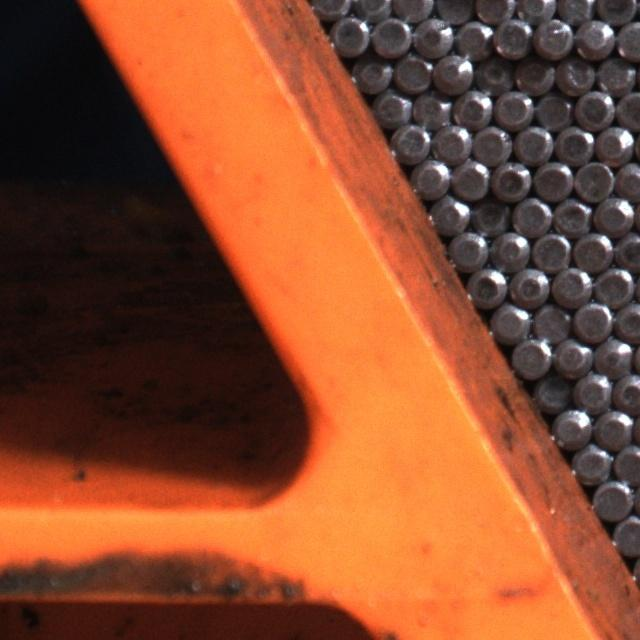tool: (590, 477, 632, 519), (488, 301, 529, 343), (370, 14, 411, 55), (508, 265, 549, 306), (433, 51, 474, 92), (530, 300, 571, 341), (570, 442, 610, 484), (592, 191, 632, 233), (466, 265, 506, 307), (329, 12, 369, 54), (572, 369, 612, 410), (573, 157, 613, 198), (449, 157, 489, 198), (592, 406, 632, 447), (532, 15, 572, 56), (551, 263, 592, 303), (490, 158, 530, 199), (509, 336, 550, 376), (412, 15, 453, 55), (593, 264, 634, 304), (532, 158, 572, 199), (429, 192, 469, 233), (410, 156, 449, 198), (471, 122, 511, 162), (574, 16, 614, 56), (551, 195, 591, 235), (595, 54, 635, 94), (553, 120, 593, 160), (447, 228, 487, 268), (572, 298, 612, 338), (512, 121, 552, 161), (511, 194, 551, 234), (592, 334, 632, 374), (432, 120, 472, 160), (490, 228, 530, 268), (572, 229, 612, 269), (453, 15, 492, 56), (551, 334, 590, 374), (494, 86, 533, 126), (391, 119, 430, 159), (392, 51, 431, 91), (550, 407, 589, 447), (493, 16, 532, 56), (595, 122, 634, 162), (530, 230, 569, 270), (513, 55, 553, 94), (470, 197, 510, 236), (575, 87, 614, 126), (555, 55, 594, 94), (410, 87, 449, 126), (474, 52, 513, 91), (451, 86, 491, 124), (534, 88, 572, 127), (532, 373, 570, 412), (351, 55, 391, 92), (373, 87, 410, 125), (610, 514, 640, 554), (612, 368, 640, 409), (612, 441, 640, 482), (613, 298, 640, 338), (614, 18, 640, 58), (614, 158, 640, 198), (614, 229, 640, 269), (616, 87, 640, 127), (434, 0, 474, 24), (596, 0, 637, 22), (476, 0, 515, 23), (555, 0, 594, 22), (515, 0, 554, 22), (392, 0, 433, 20), (352, 0, 392, 19), (310, 0, 350, 18)
